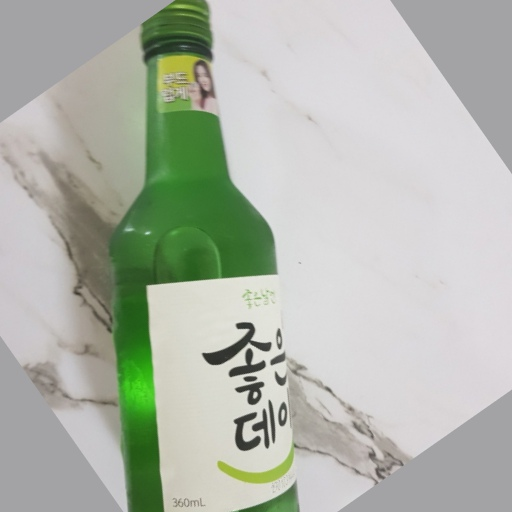Glass_0: (108, 1, 300, 512)
